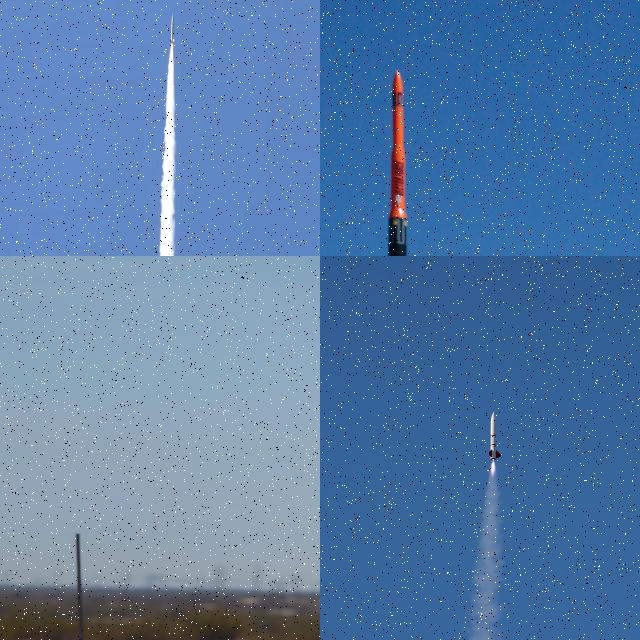Rocket: (356, 69, 437, 256), (488, 412, 501, 460), (169, 14, 175, 46)
